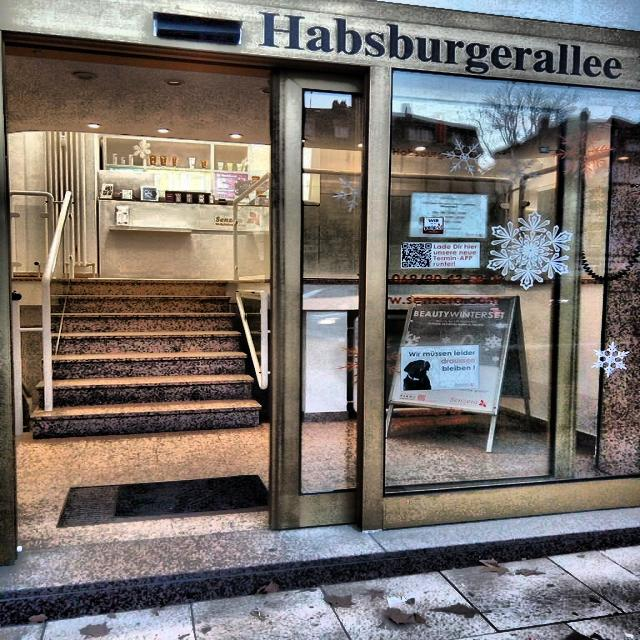escada: (29, 279, 263, 431)
